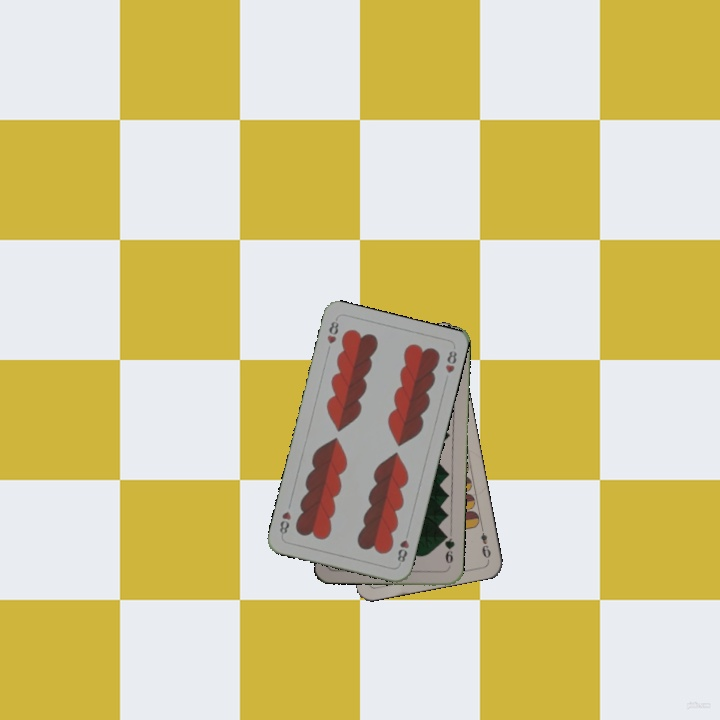E9: (476, 522, 493, 561)
G9: (440, 530, 457, 566)
H8: (393, 535, 412, 565), (323, 315, 341, 346)
